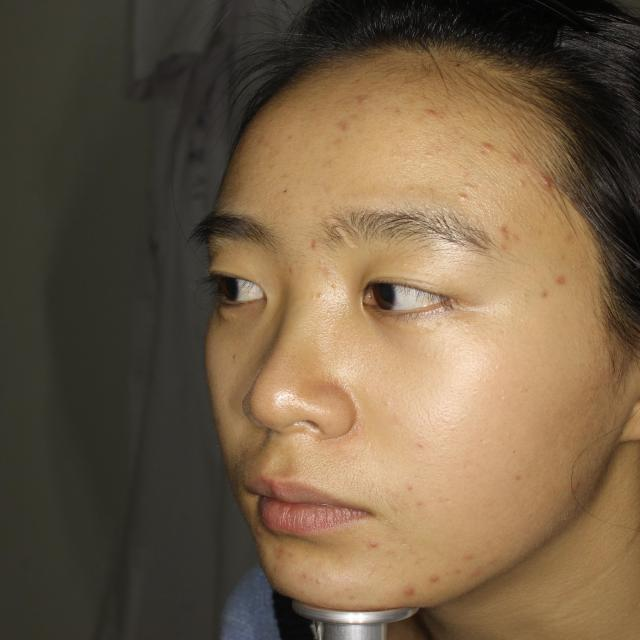pustule: (418, 570, 464, 596), (470, 134, 506, 163), (388, 582, 423, 608), (418, 102, 450, 125), (536, 172, 562, 196), (490, 225, 519, 245), (506, 146, 526, 168), (550, 270, 574, 285)
